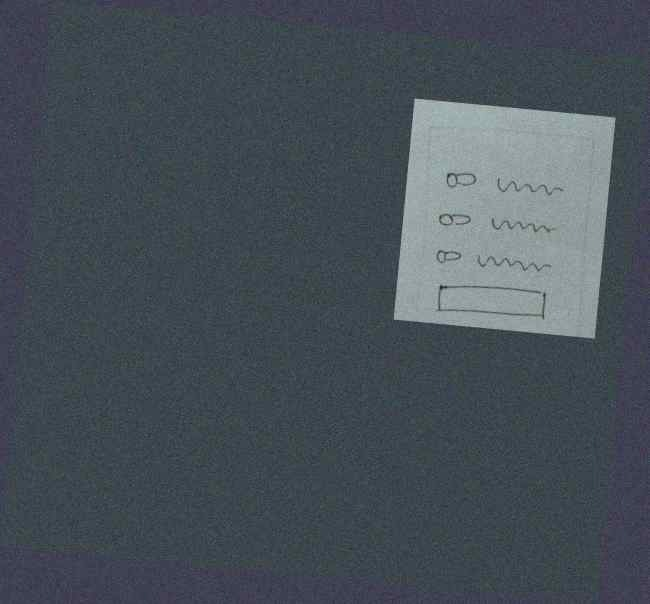switch: (433, 205, 475, 234), (428, 241, 468, 270), (443, 168, 481, 192)
text: (491, 171, 568, 203), (473, 248, 557, 277), (488, 212, 560, 240)
text_input: (429, 276, 557, 329)
